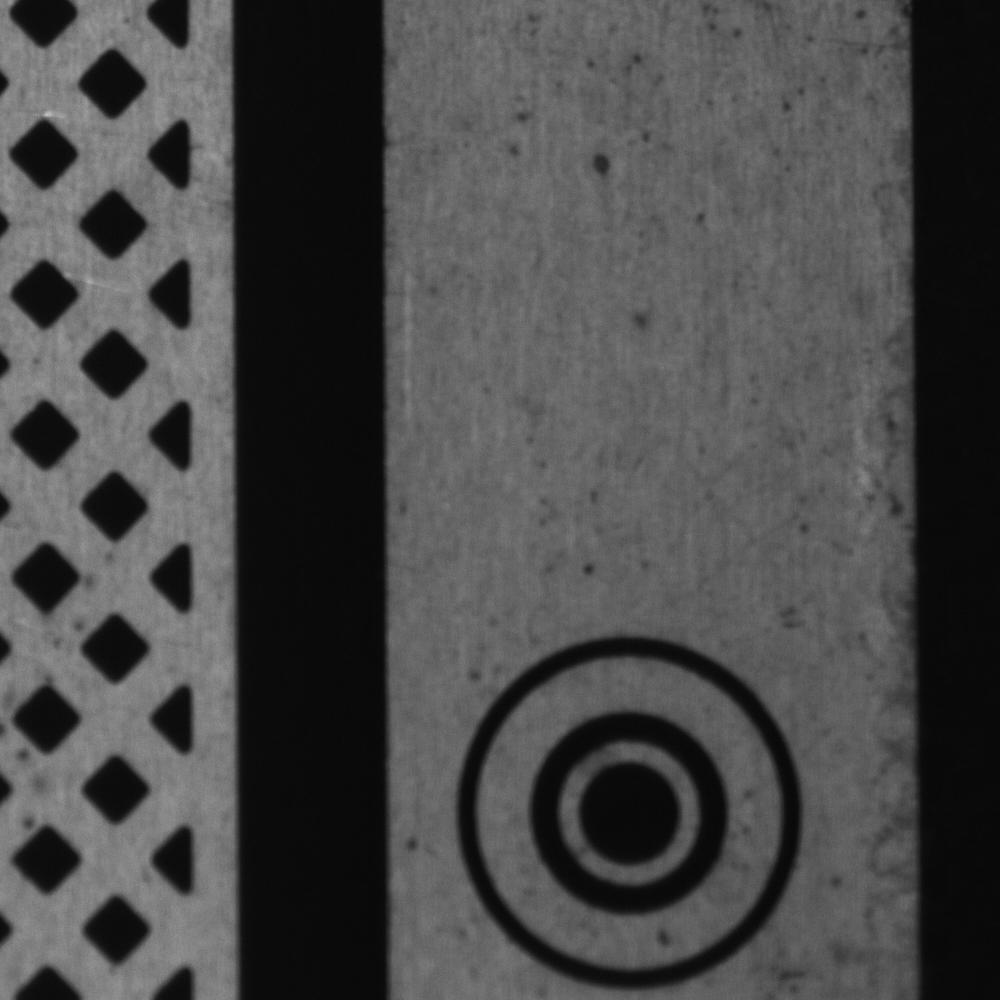Etching: (509, 2, 684, 128), (690, 1, 847, 130), (877, 571, 916, 980), (866, 321, 917, 550), (612, 286, 673, 354), (587, 134, 644, 195), (768, 590, 829, 646)
Pinhole: (393, 802, 436, 881), (573, 546, 612, 594), (460, 652, 493, 690), (792, 512, 824, 546), (690, 198, 715, 229)
